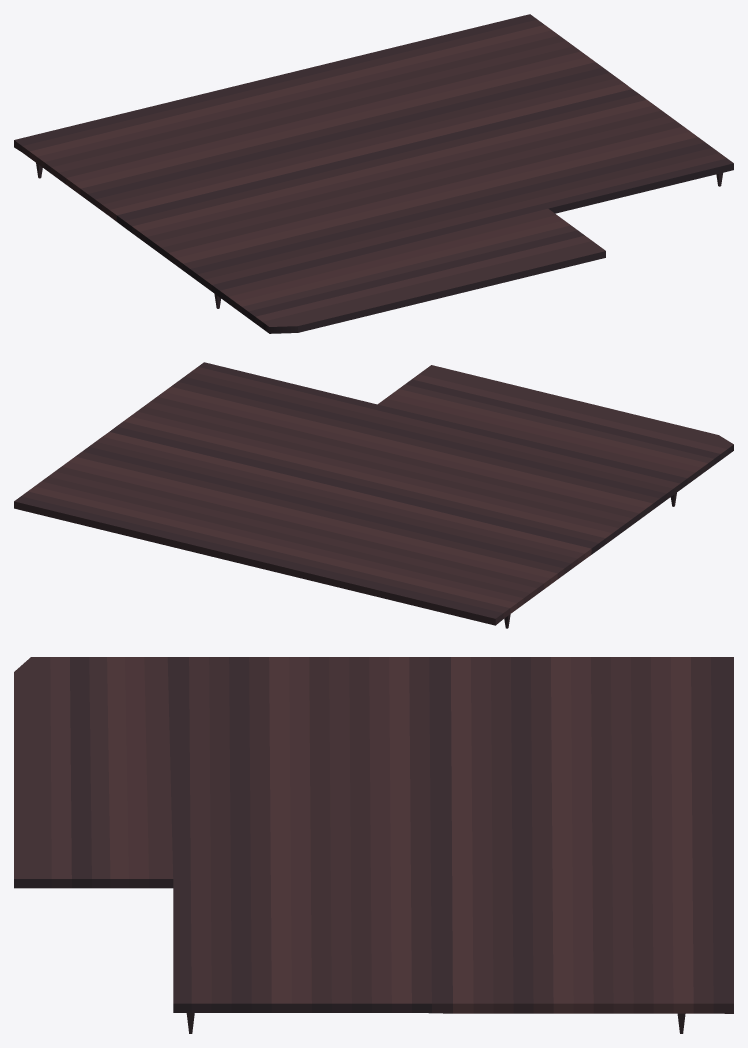
Rendered from market_floor.fbx.
3 views of the same model, one above another, from view 1: azimuth 30°, elevation 25°; view 2: azimuth 150°, elevation 25°; view 3: azimuth 270°, elevation 25° (orthographic). The views are drawn at different scales.
Parts seen in each view (by area): view 1: Floor; view 2: Floor; view 3: Floor.
Boxes of the visible parts, left/top/right/bottom form: Floor: left=14, top=14, right=733, bottom=333; Floor: left=14, top=362, right=733, bottom=628; Floor: left=14, top=657, right=733, bottom=1033.
Bounding box in the file's own units: 1126 × 53.21 × 988.
